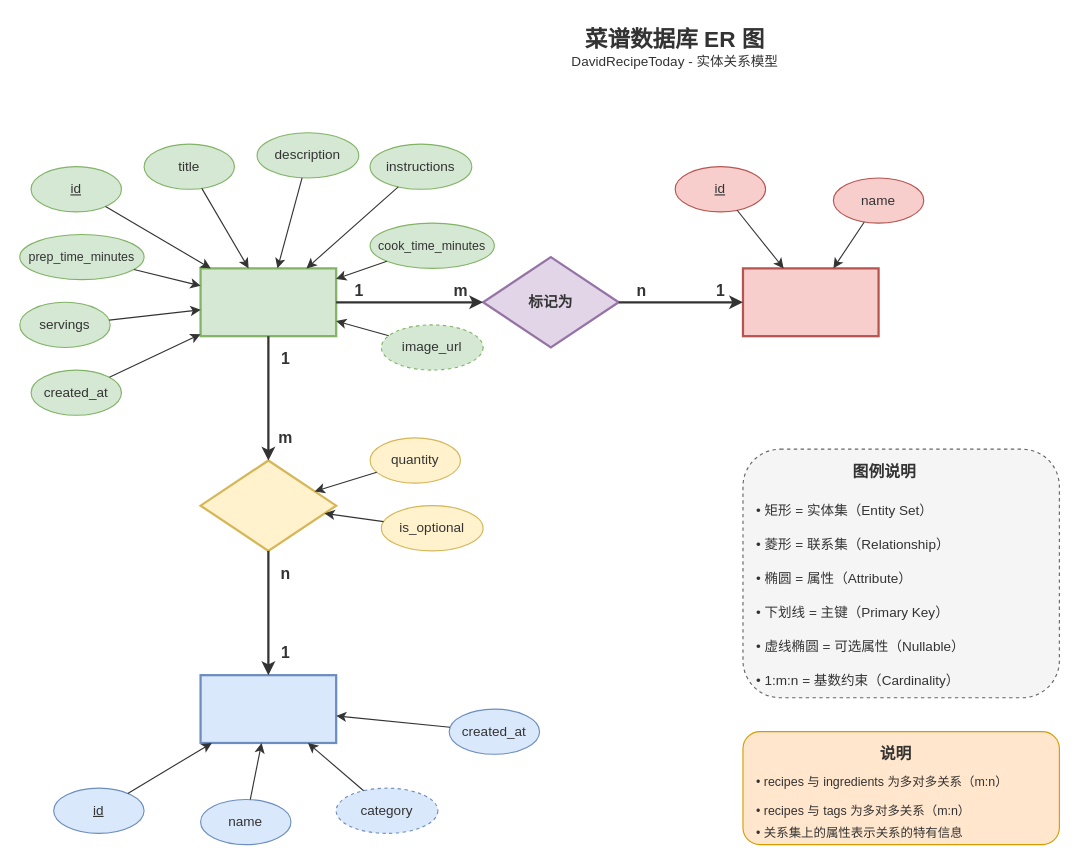
Image size: 1079x864. Some labels were removed from this diagram. Here are the shapes that lost their labels. From the top down, the centre of each, then its label:
At (x=268, y=302): "recipes".
At (x=810, y=302): "tags".
At (x=268, y=505): "包含".
At (x=268, y=708): "ingredients".
